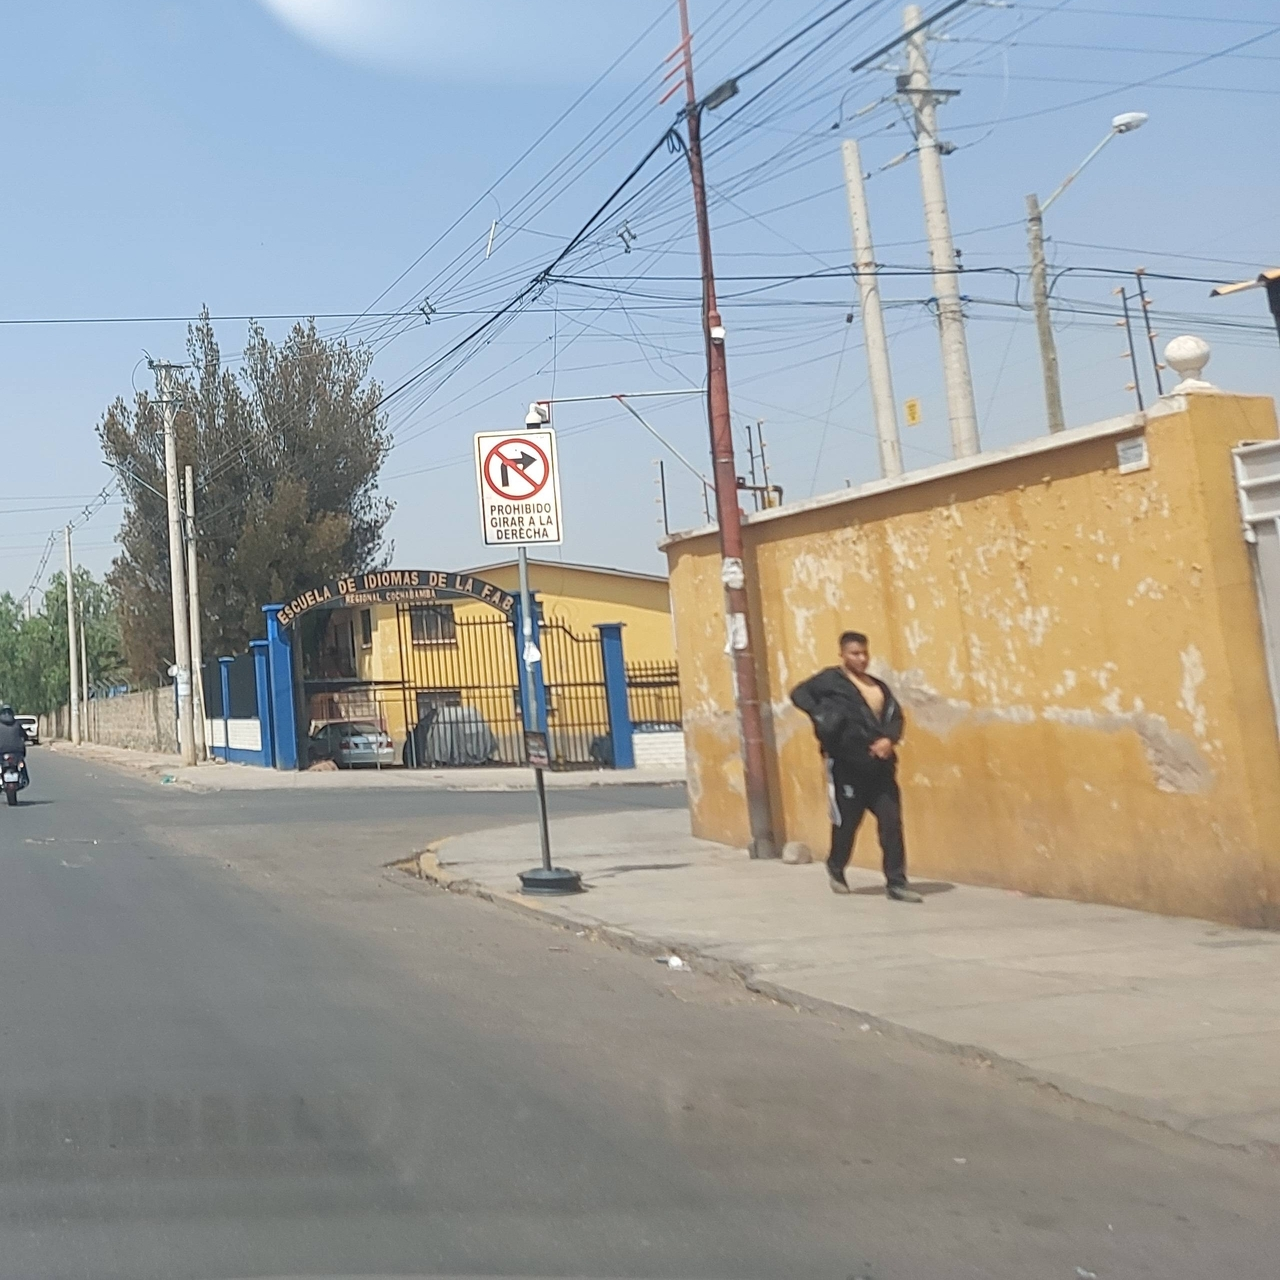prohibido-girar-derecha: (476, 431, 561, 546)
